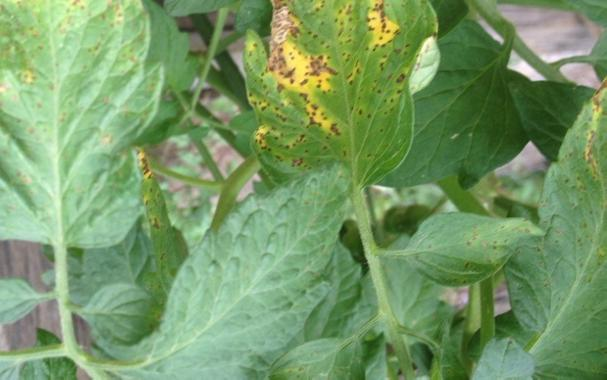Tomato Septoria leaf spot: (0, 0, 177, 248), (244, 0, 444, 196)
